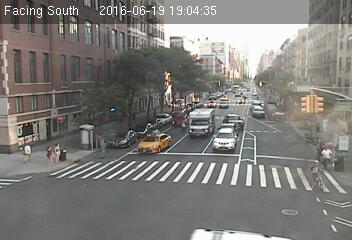neg: (125, 129, 150, 163), (298, 55, 319, 83), (198, 118, 217, 144), (170, 117, 188, 142), (237, 88, 254, 110), (287, 115, 304, 137), (47, 87, 62, 107), (263, 76, 278, 95), (214, 90, 228, 109), (155, 122, 166, 137)
pos: (317, 144, 337, 171), (94, 137, 111, 160), (50, 142, 66, 164), (20, 144, 35, 164), (41, 145, 54, 163)
